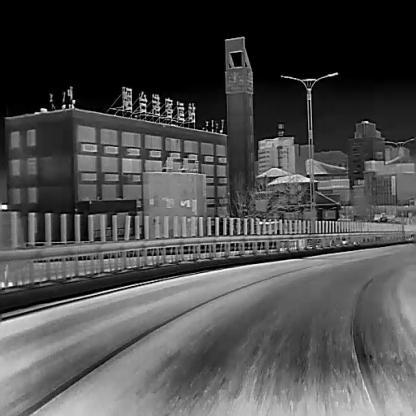car: (371, 211, 387, 222)
